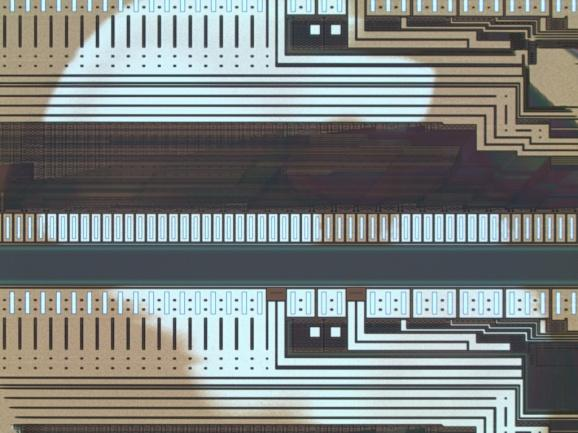COATING BAD: (29, 1, 563, 433)
